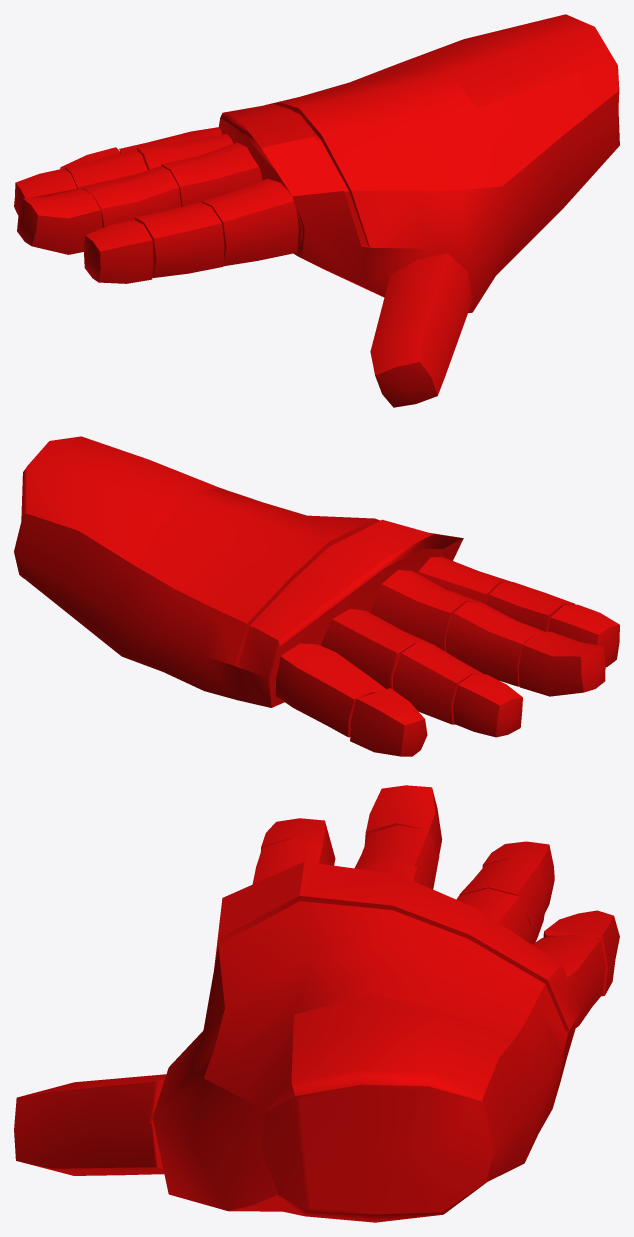
File: mano_armadura_left.fbx
3 views of the same model, one above another, from view 1: azimuth 30°, elevation 25°; view 2: azimuth 150°, elevation 25°; view 3: azimuth 270°, elevation 25° (orthographic). The views are drawn at different scales.
Visible parts, largest first — view 1: pCube4, pCube25, pCube17, pCube2, pCube20, pCube1, pCube18, pCube19, pCube22, pCube21, pCube23, pCube12; view 2: pCube4, pCube12, pCube19, pCube20, pCube18, pCube21, pCube22, pCube13, pCube23, pCube1, pCube2, pCube17; view 3: pCube4, pCube25, pCube12, pCube22, pCube19, pCube20, pCube13, pCube2, pCube21, pCube1, pCube23, pCube18.
Part boxes in pixels (x1,y1,x2,y2): pCube4: (219,14,619,313); pCube25: (370,253,472,407); pCube17: (201,178,298,266); pCube2: (134,202,224,277); pCube20: (17,188,102,254); pCube1: (84,219,153,283); pCube18: (161,142,262,206); pCube19: (82,166,181,227); pCube22: (65,149,147,189); pCube21: (137,134,233,170); pCube23: (14,168,77,215); pCube12: (119,127,222,153); pCube4: (14,436,463,707); pCube12: (275,643,386,737); pCube19: (446,601,545,686); pCube20: (518,631,605,696); pCube18: (371,570,478,651); pCube21: (321,608,429,689); pCube22: (393,643,483,724); pCube13: (350,688,427,756); pCube23: (453,674,522,737); pCube1: (548,604,619,667); pCube2: (486,582,575,631); pCube17: (417,556,511,604); pCube4: (152,861,581,1222); pCube25: (14,1074,166,1175); pCube12: (532,934,605,1027); pCube22: (459,858,548,944); pCube19: (354,825,439,889); pCube20: (364,785,442,854); pCube13: (543,910,619,996); pCube2: (252,838,328,884); pCube21: (456,888,530,942); pCube1: (261,818,335,865); pCube23: (482,841,554,913); pCube18: (359,860,423,885).
Size of the model in its own units: 21.79 by 8.24 by 15.1.
